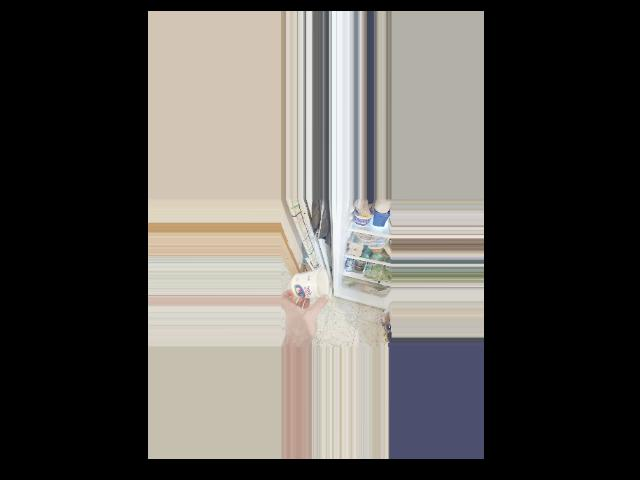cotage: (290, 270, 330, 301)
